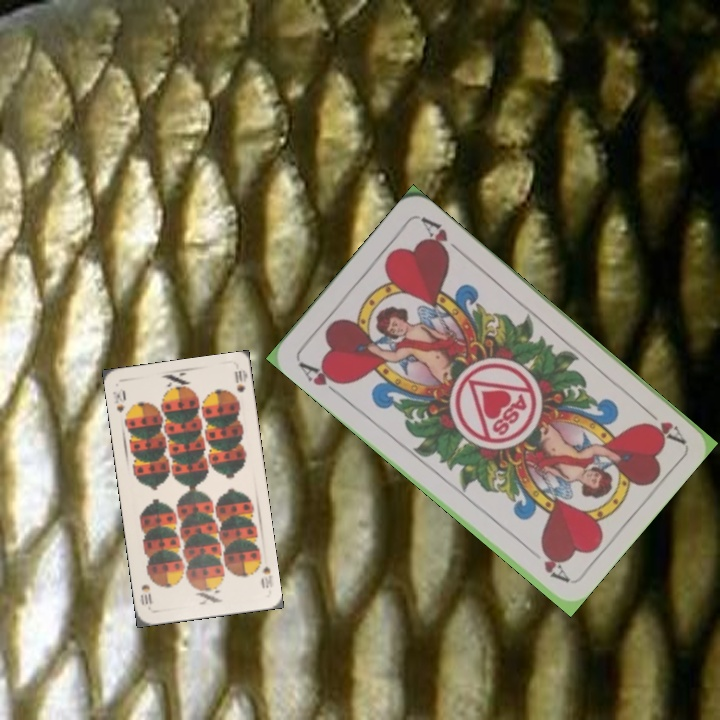HA: (637, 402, 687, 446), (295, 357, 346, 400)
S10: (253, 553, 275, 591), (109, 388, 127, 415)
